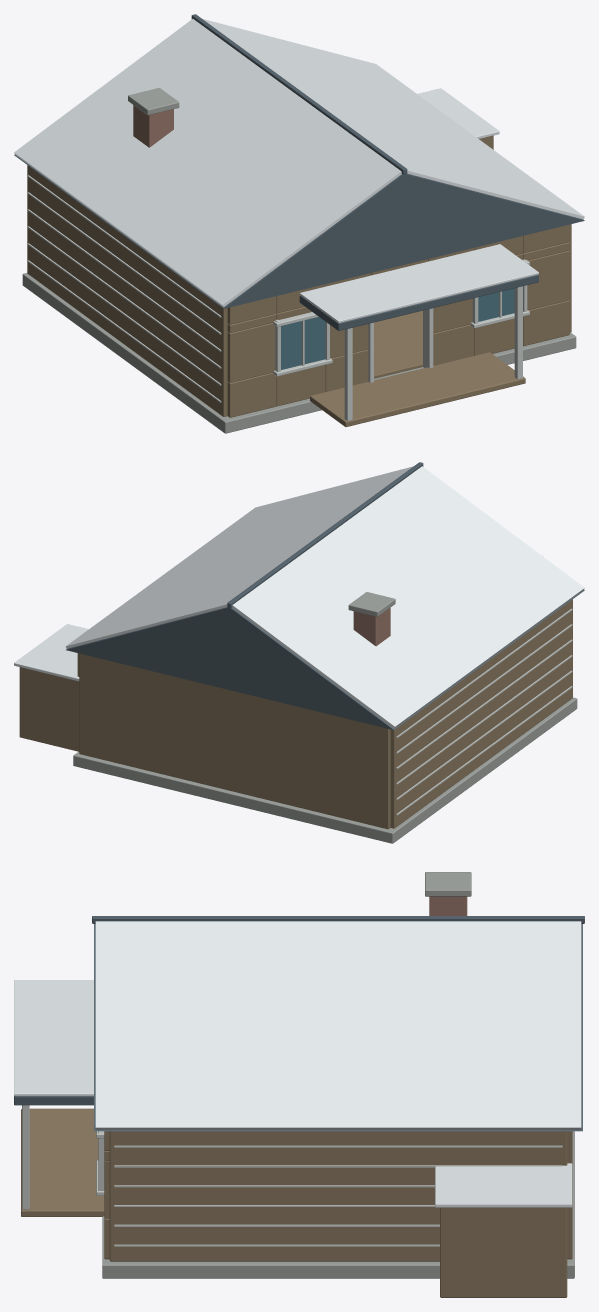
The model's file is resort_rental_cabin.glb.
3 renders of one model, top to bottom at view 1: azimuth 30°, elevation 25°; view 2: azimuth 150°, elevation 25°; view 3: azimuth 270°, elevation 25°, orthographic. The views are drawn at different scales.
Visible parts, largest first — view 1: resort_rental_cabin; view 2: resort_rental_cabin; view 3: resort_rental_cabin.
Part boxes in pixels (box(x1,y1,x2,y2)): resort_rental_cabin: box(14, 14, 584, 433); resort_rental_cabin: box(14, 462, 584, 843); resort_rental_cabin: box(14, 872, 584, 1297).
Size of the model in its own units: 11.19 by 5.69 by 11.23.
